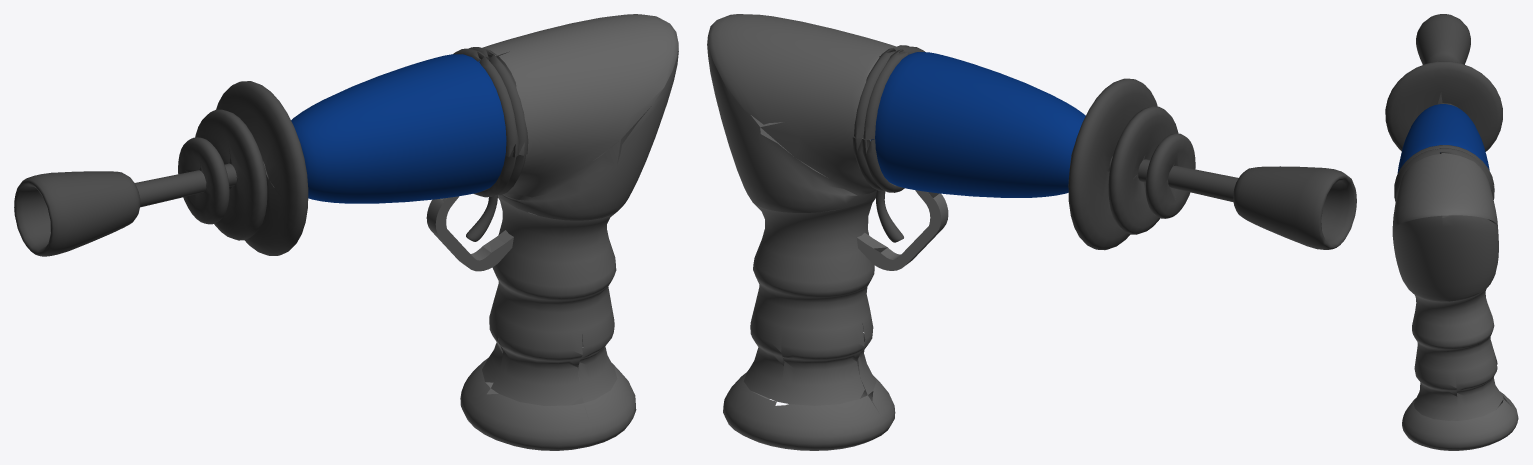
File: Gun.FBX
3 views of the same model, side by side, from view 1: azimuth 30°, elevation 25°; view 2: azimuth 150°, elevation 25°; view 3: azimuth 270°, elevation 25° (orthographic). The views are drawn at different scales.
Visible parts, largest first — view 1: gun_rear, gun_front, barrel, trigger_2, trim_2, trim_1; view 2: gun_rear, gun_front, barrel, trigger_2, trim_2, trim_1; view 3: gun_rear, gun_front, barrel, trim_1, trim_2.
Boxes of the visible parts, x1=… form: gun_rear: x1=460, y1=14, x2=678, y2=450; gun_front: x1=14, y1=81, x2=308, y2=256; barrel: x1=291, y1=54, x2=506, y2=203; trigger_2: x1=426, y1=196, x2=536, y2=271; trim_2: x1=453, y1=48, x2=519, y2=197; trim_1: x1=469, y1=47, x2=528, y2=195; gun_rear: x1=707, y1=14, x2=895, y2=450; gun_front: x1=1068, y1=78, x2=1356, y2=250; barrel: x1=870, y1=52, x2=1085, y2=197; trigger_2: x1=856, y1=190, x2=948, y2=270; trim_2: x1=862, y1=46, x2=924, y2=192; trim_1: x1=852, y1=45, x2=909, y2=191; gun_rear: x1=1392, y1=153, x2=1518, y2=450; gun_front: x1=1385, y1=14, x2=1502, y2=151; barrel: x1=1397, y1=104, x2=1489, y2=173; trim_1: x1=1394, y1=148, x2=1494, y2=201; trim_2: x1=1394, y1=145, x2=1494, y2=192.
Size of the model in its own units: 113 by 30.93 by 70.27.
